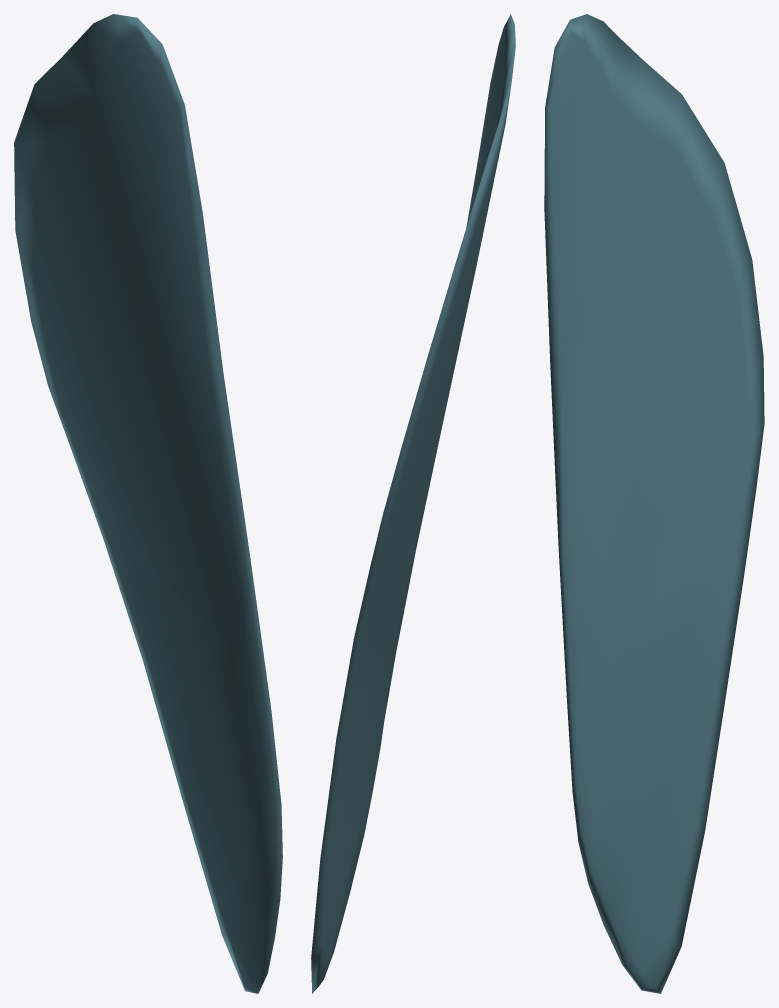
File: Gracilis_on_pes_anserinus.l_Generated_Mesh_From_X3D.236.glb
The picture shows the model from 3 angles, left to right: view 1: azimuth 30°, elevation 25°; view 2: azimuth 150°, elevation 25°; view 3: azimuth 270°, elevation 25°; orthographic projection. The views are drawn at different scales.
Visible parts, largest first — view 1: Gracilis_on_pes_anserinus.l_Generated_Mesh_From_X3D.236; view 2: Gracilis_on_pes_anserinus.l_Generated_Mesh_From_X3D.236; view 3: Gracilis_on_pes_anserinus.l_Generated_Mesh_From_X3D.236.
Part boxes in pixels (left/top/right/bottom): Gracilis_on_pes_anserinus.l_Generated_Mesh_From_X3D.236: left=14, top=14, right=282, bottom=993; Gracilis_on_pes_anserinus.l_Generated_Mesh_From_X3D.236: left=311, top=14, right=515, bottom=993; Gracilis_on_pes_anserinus.l_Generated_Mesh_From_X3D.236: left=544, top=14, right=764, bottom=993.
Bounding box in the file's own units: 0.00905 × 0.0448 × 0.00987.
